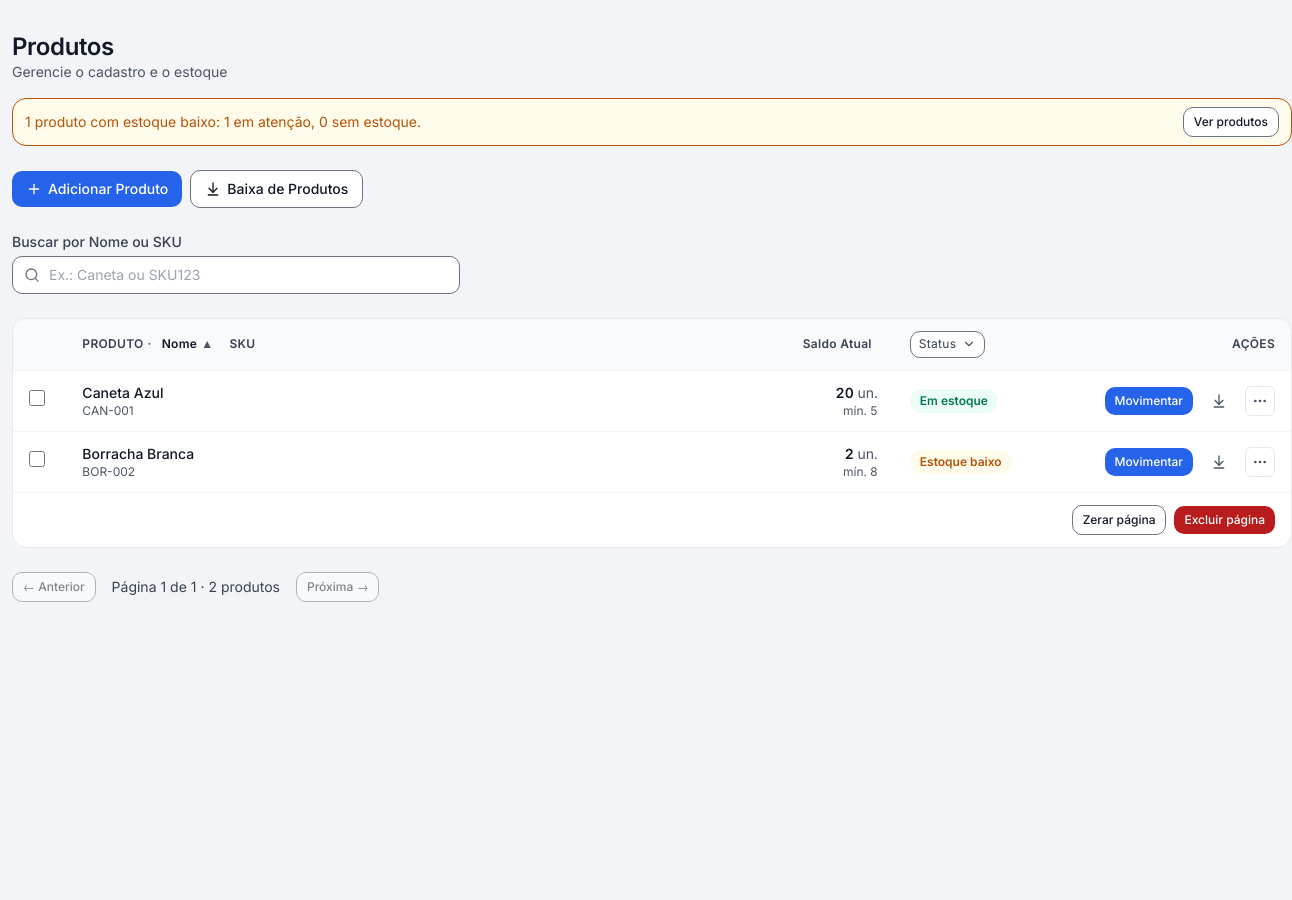
Test: ProductDashboard — a seleção não sobrevive à mudança de recorte (PD-1) › PD-1 · filtrar por status limpa a seleção
Click the checkbox named "Selecionar Caneta Azul".
click(37, 398)  # box [29,390,45,406]
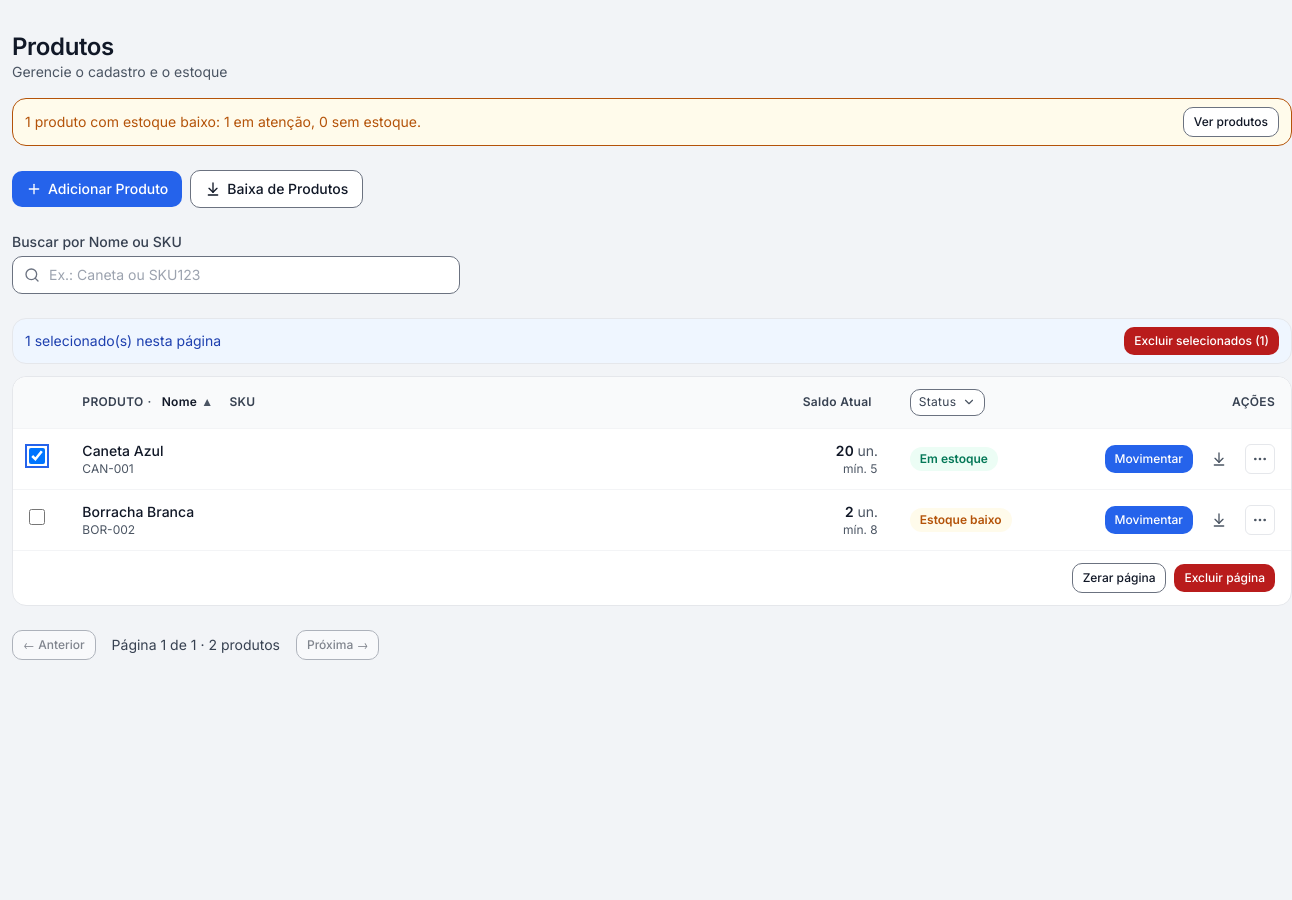
Now the button "Excluir selecionados (1)" is enabled, box [1124,327,1279,355]
Click the button with aria-label "Filtrar por Status".
click(948, 402)  # box [910,389,985,416]
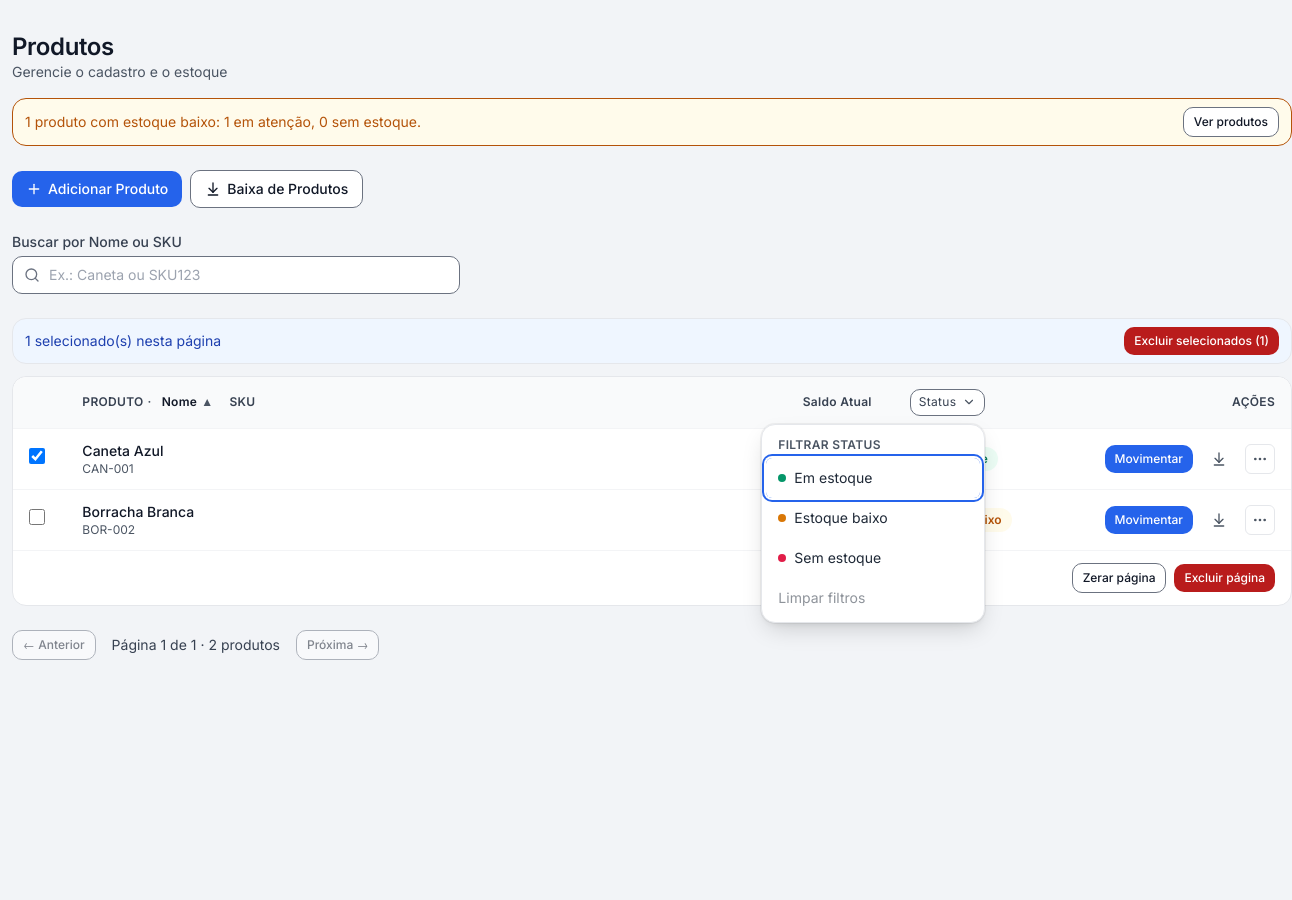
Click the menu item "Estoque baixo".
click(873, 518)  # box [766,498,980,538]
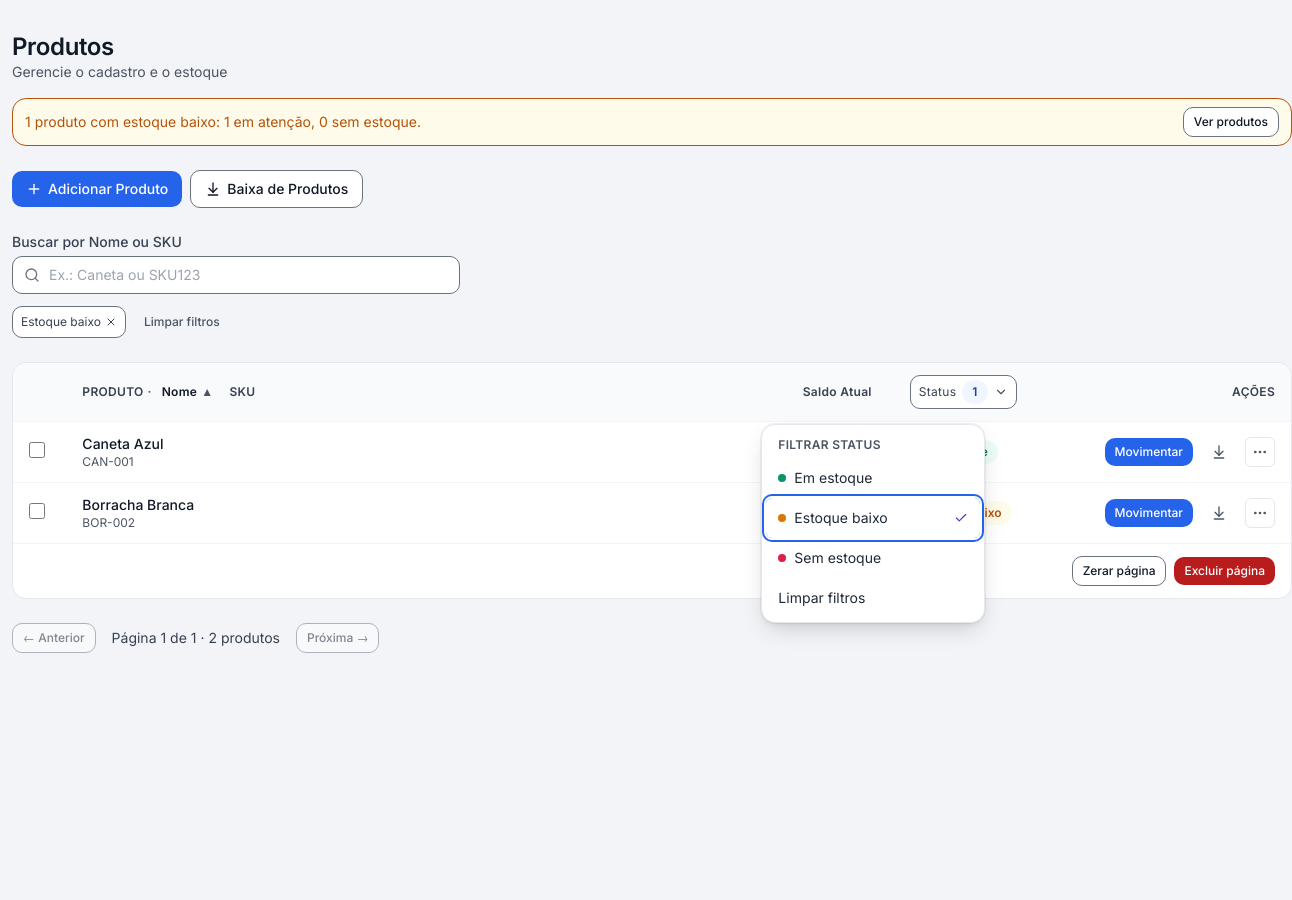
Now the button "Excluir selecionados" is gone
